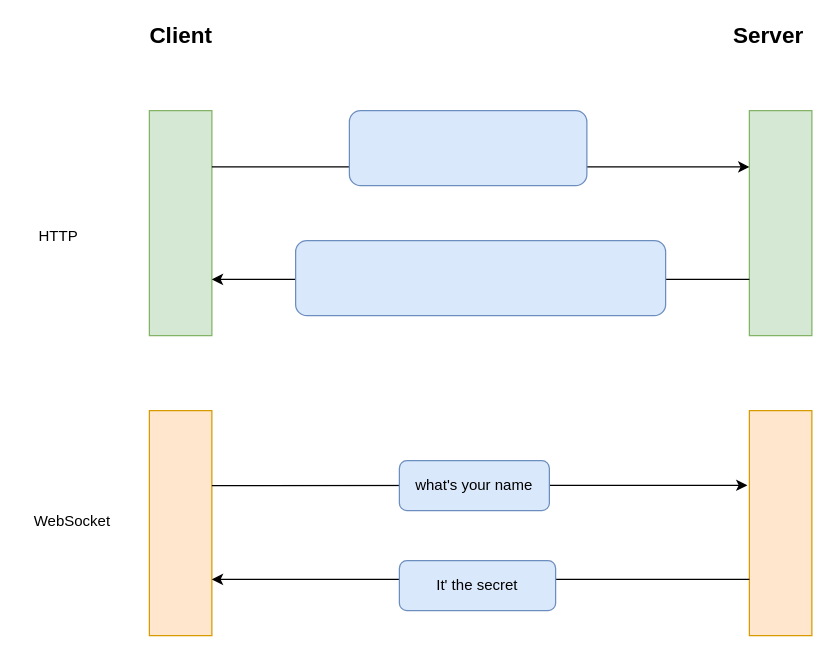
Some shapes in this 834 by 658 pixel diagram are drawn without their labels. The shapes that lost their labels are listed below. From the top down, each one's centre as x and y in pixels, then its label:
point (467, 147): GET /chat HTTP/1.1 Upgrade: websocket Connection: Upgrade
point (480, 277): HTTP/1.1 101 Switching Protocols Upgrade: websocket Connection: Upgrade
